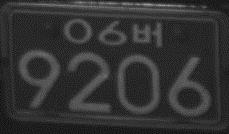0: (115, 52, 161, 114), (63, 17, 93, 44)
2: (67, 50, 111, 113)
6: (167, 56, 212, 118), (97, 19, 128, 46)
9: (17, 48, 61, 109)
버: (131, 21, 162, 49)
